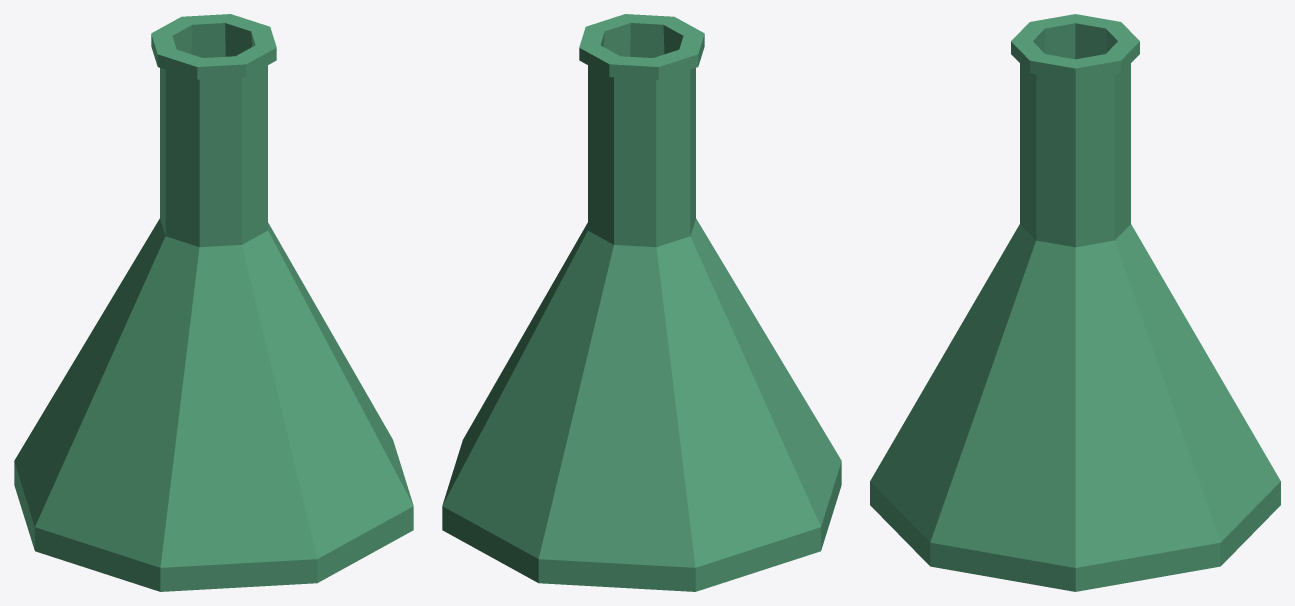
The model's file is fiole_1.fbx.
The picture shows the model from 3 angles, left to right: view 1: azimuth 30°, elevation 25°; view 2: azimuth 150°, elevation 25°; view 3: azimuth 270°, elevation 25°; orthographic projection.
Parts seen in each view (by area): view 1: pCylinder4; view 2: pCylinder4; view 3: pCylinder4.
Boxes of the visible parts, box(x1,y1,x2,y2) form: pCylinder4: box(14, 14, 413, 591); pCylinder4: box(442, 14, 841, 591); pCylinder4: box(870, 14, 1280, 591).
Bounding box in the file's own units: 2.9 × 3.61 × 2.9.
